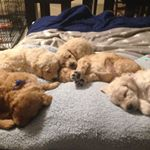puppy: (1, 69, 57, 134), (100, 69, 150, 117), (55, 35, 96, 89)
